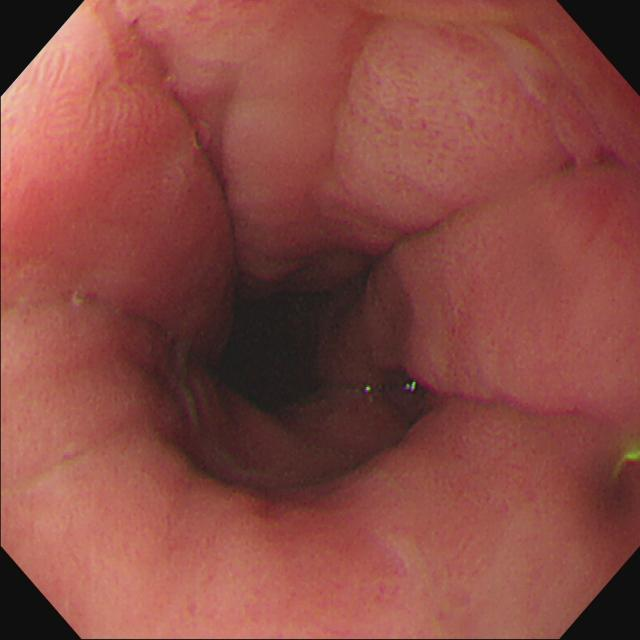A: (354, 40, 500, 176), (436, 235, 491, 404)
E: (222, 302, 325, 416)
